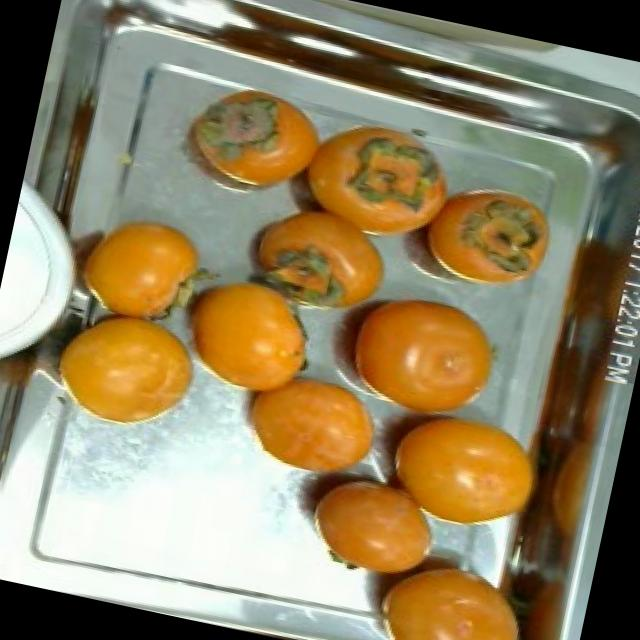Fruit: (296, 259, 524, 427), (145, 246, 341, 418), (360, 388, 564, 550), (28, 288, 220, 452), (159, 66, 341, 217), (397, 162, 573, 311), (55, 192, 222, 341), (288, 455, 462, 597), (216, 359, 398, 494), (336, 529, 553, 640)
